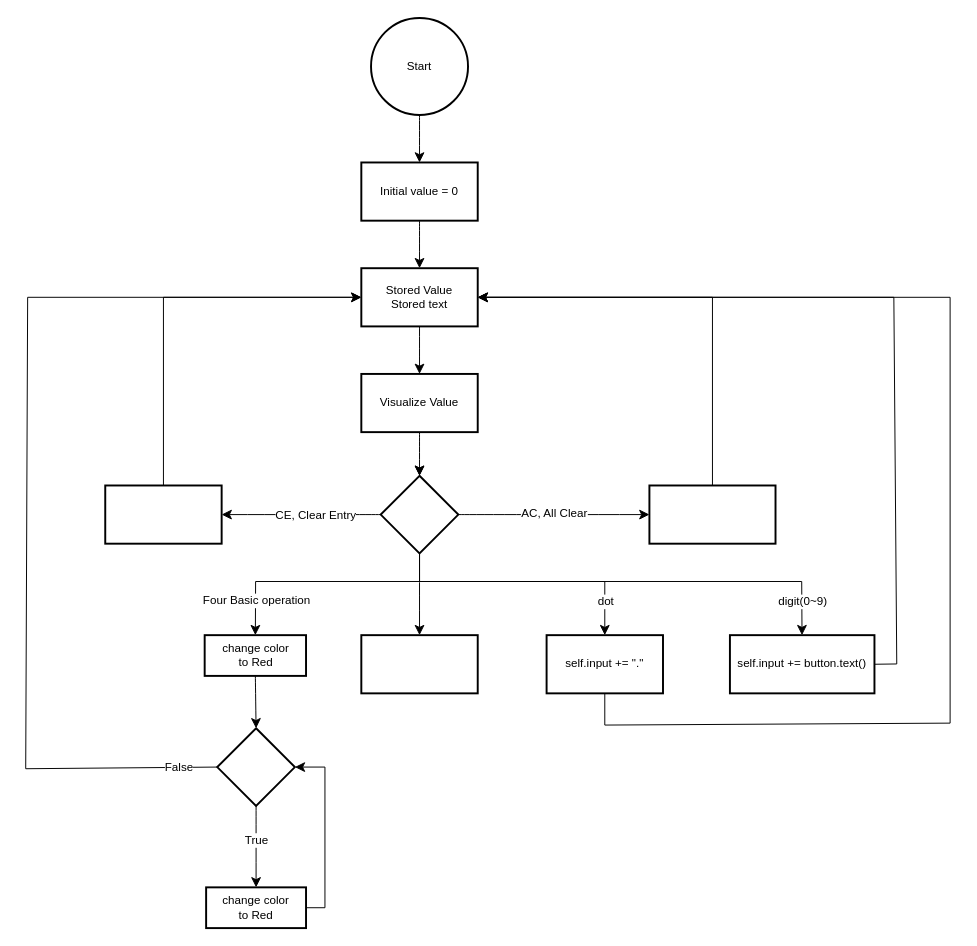
This 977x946 diagram has some shape labels left out. The centre of each missing label's shape, as x and y in pixels:
Button Pushed: point (419, 514)
input = input[:-1] setText(self.input): point (163, 514)
Other oper Pushed: point (255, 766)
Store Value = 0 self.textBrowser.clear(): point (712, 514)
